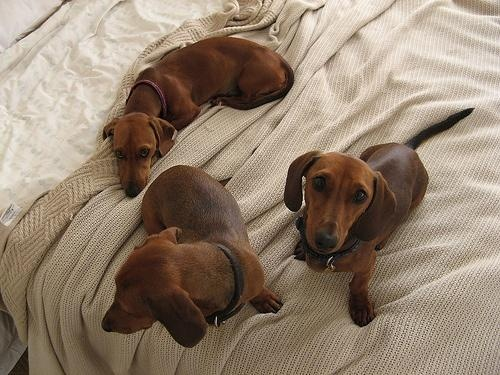dog: (284, 108, 475, 328), (102, 166, 284, 349), (103, 36, 295, 198)
